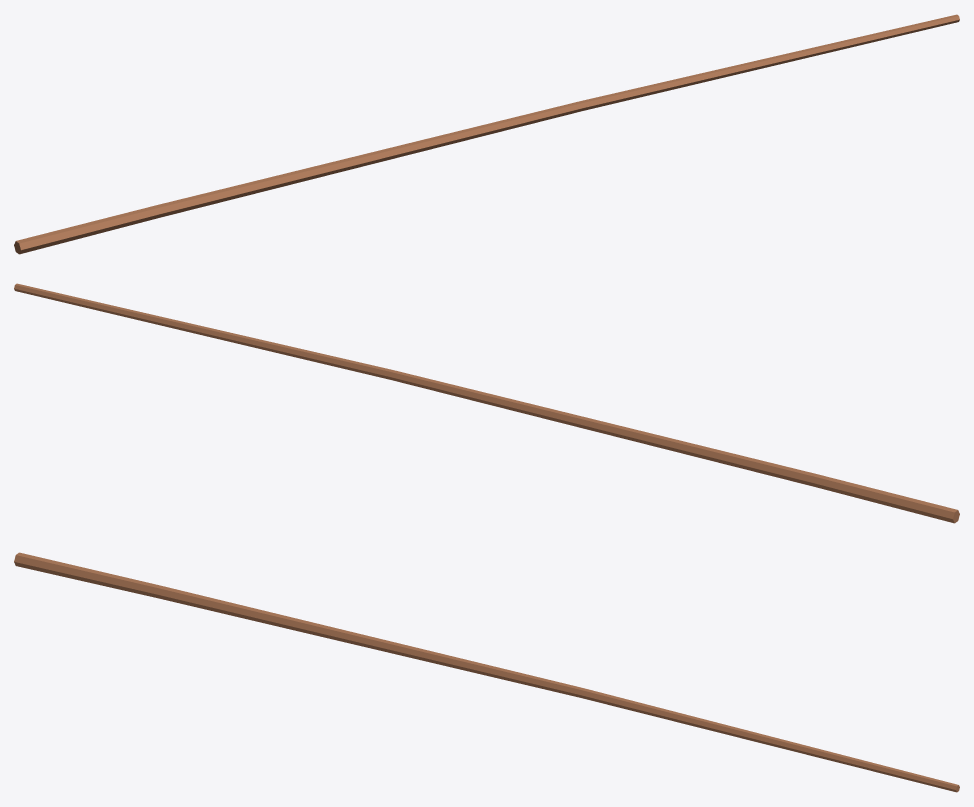
The model's file is prop-bow-stick-blank.fbx.
3 renders of one model, top to bottom at view 1: azimuth 30°, elevation 25°; view 2: azimuth 150°, elevation 25°; view 3: azimuth 330°, elevation 25°, orthographic.
Visible parts, largest first — view 1: prop-bow-stick-blank; view 2: prop-bow-stick-blank; view 3: prop-bow-stick-blank.
Boxes of the visible parts, x1,y1,x2,y2 form: prop-bow-stick-blank: (14,14,959,254); prop-bow-stick-blank: (14,283,959,523); prop-bow-stick-blank: (14,552,959,792).
Size of the model in its own units: 70 by 0.9608 by 0.9.
